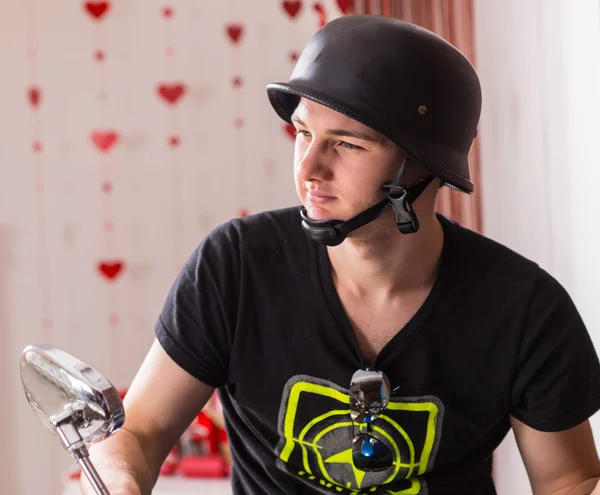helmet: (265, 14, 482, 247)
